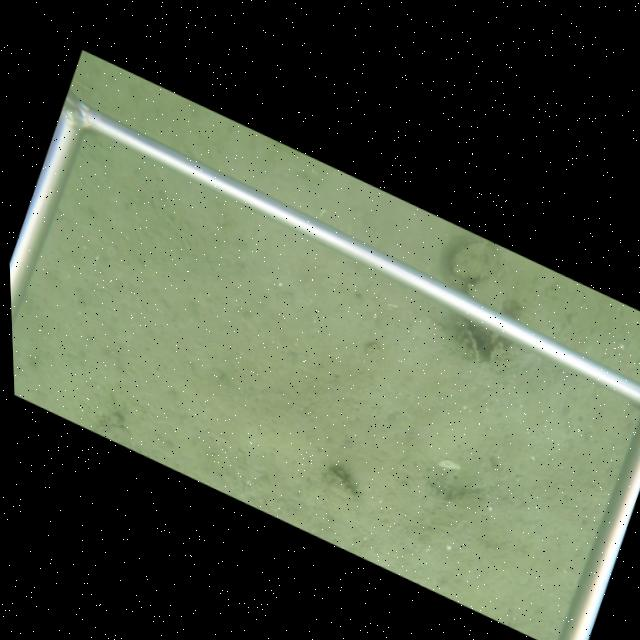Oyster-Closed: (449, 238, 505, 280), (323, 467, 361, 501)
Oyster-Indeterminate: (465, 279, 509, 314)
